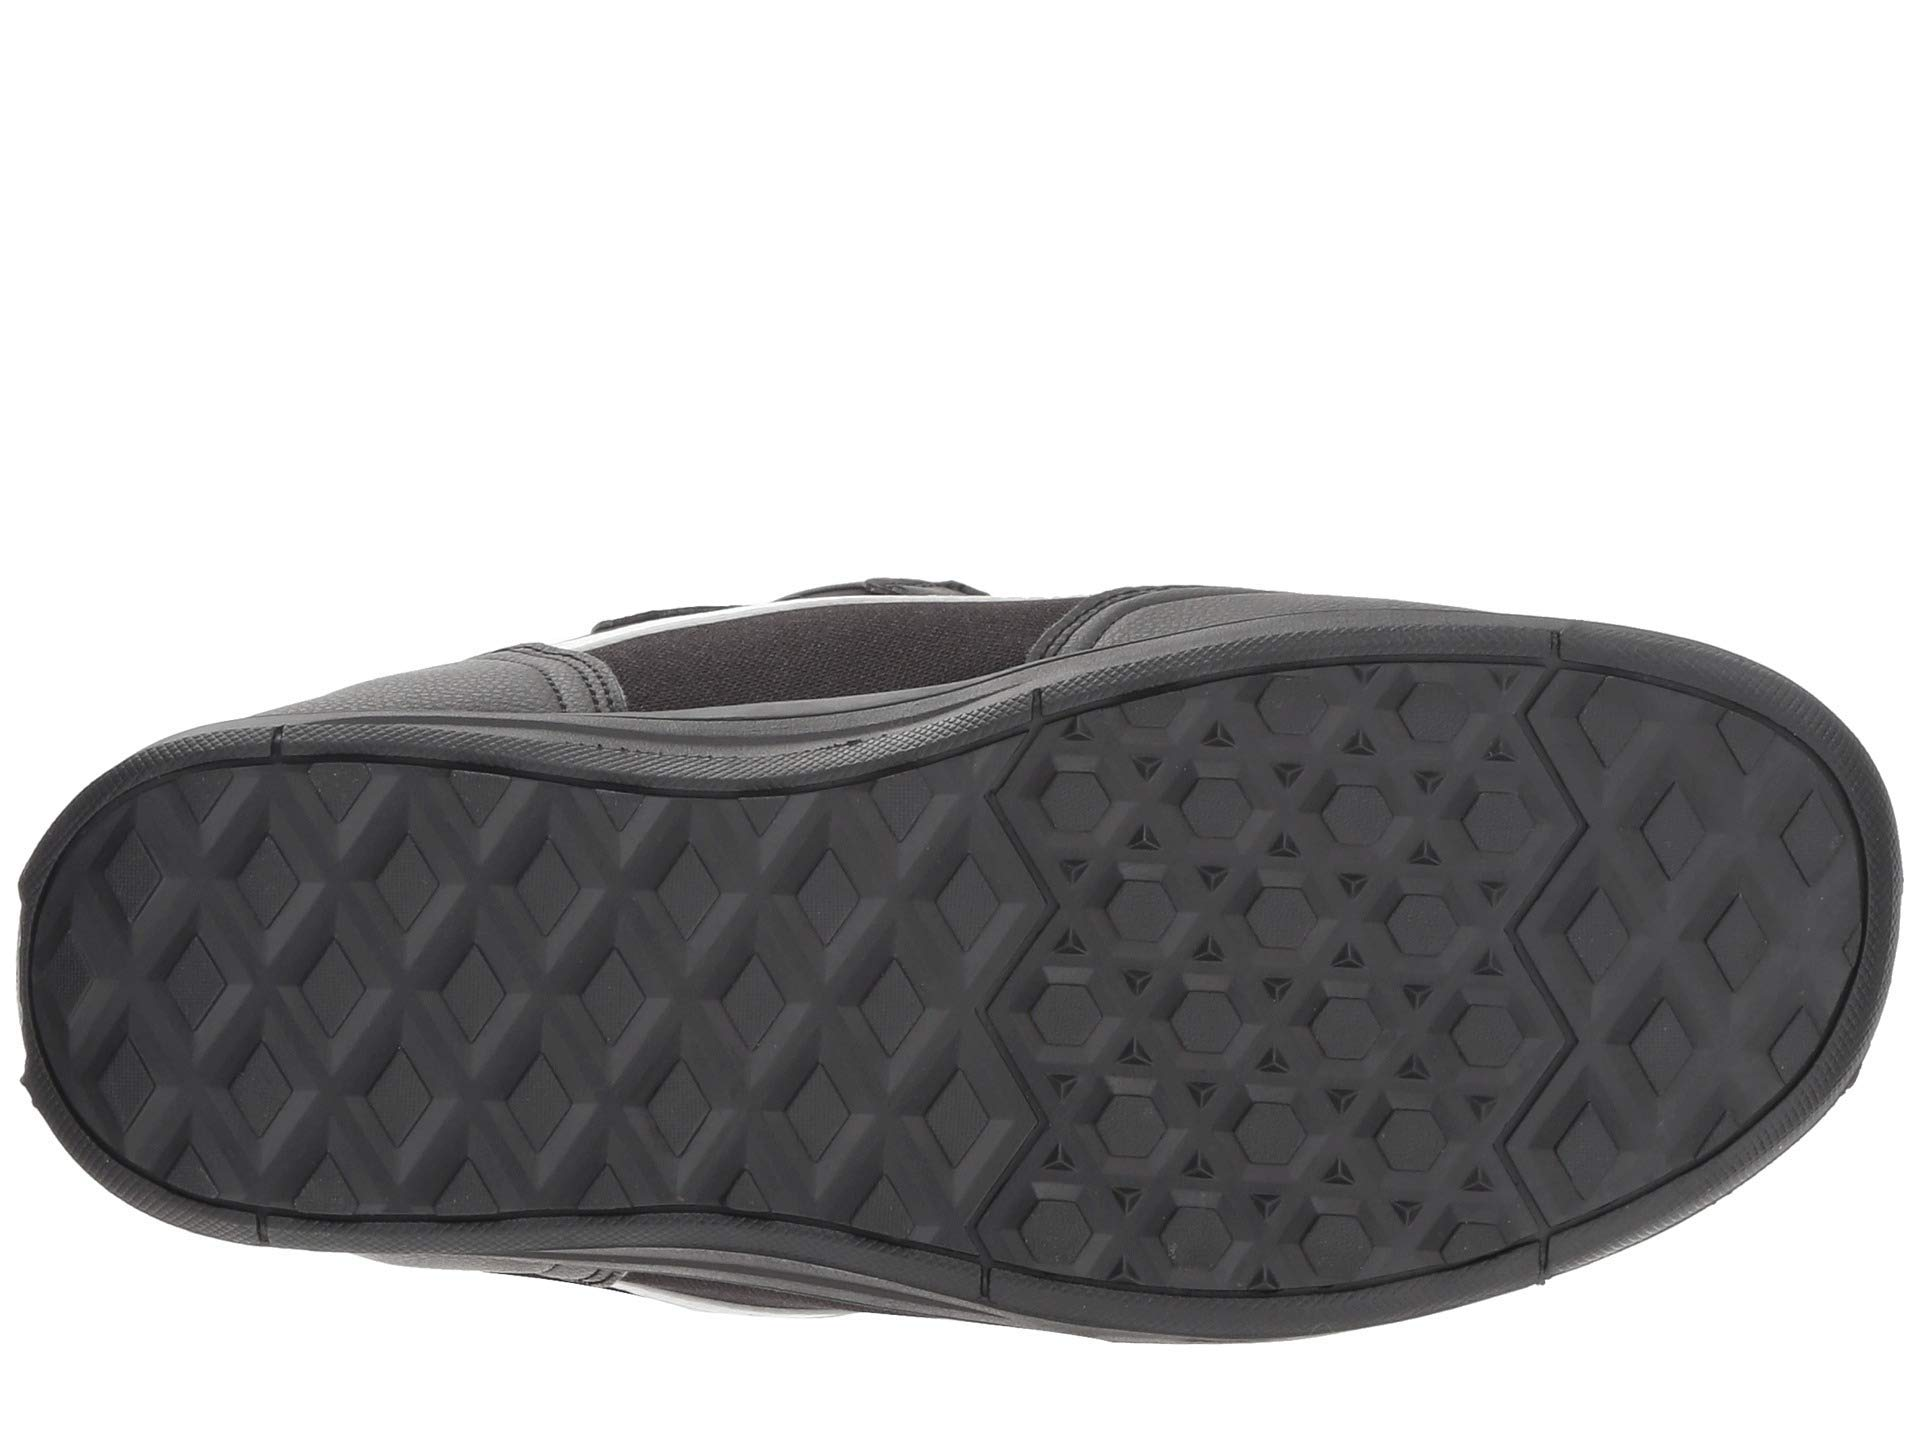polygon: (1042, 743, 1500, 1257)
quad: (228, 811, 936, 1172), (1581, 729, 1781, 1082)
triangle: (1042, 743, 1500, 1257)
